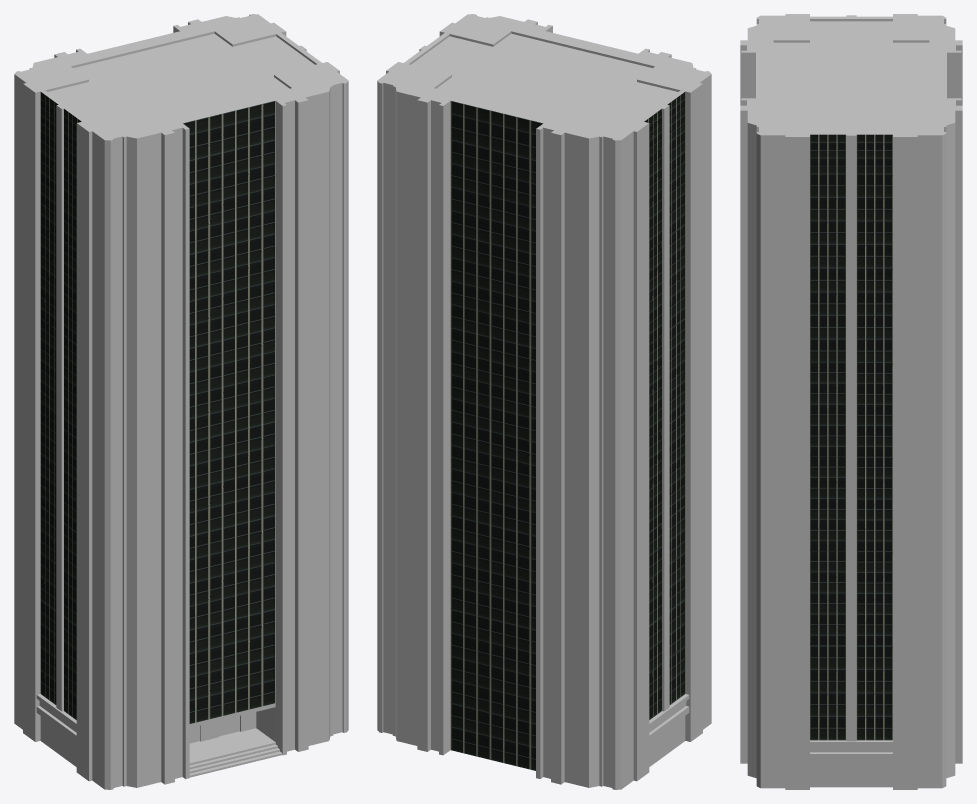
3 renders of one model, left to right at view 1: azimuth 30°, elevation 25°; view 2: azimuth 150°, elevation 25°; view 3: azimuth 270°, elevation 25°, orthographic.
Visible parts, largest first — view 1: Building; view 2: Building; view 3: Building.
Boxes of the visible parts, x1,y1,x2,y2 form: Building: (14,14,348,789); Building: (377,14,711,789); Building: (740,14,962,789).
Size of what is drawn, in the model's own units: 33.56 by 83 by 25.58.
